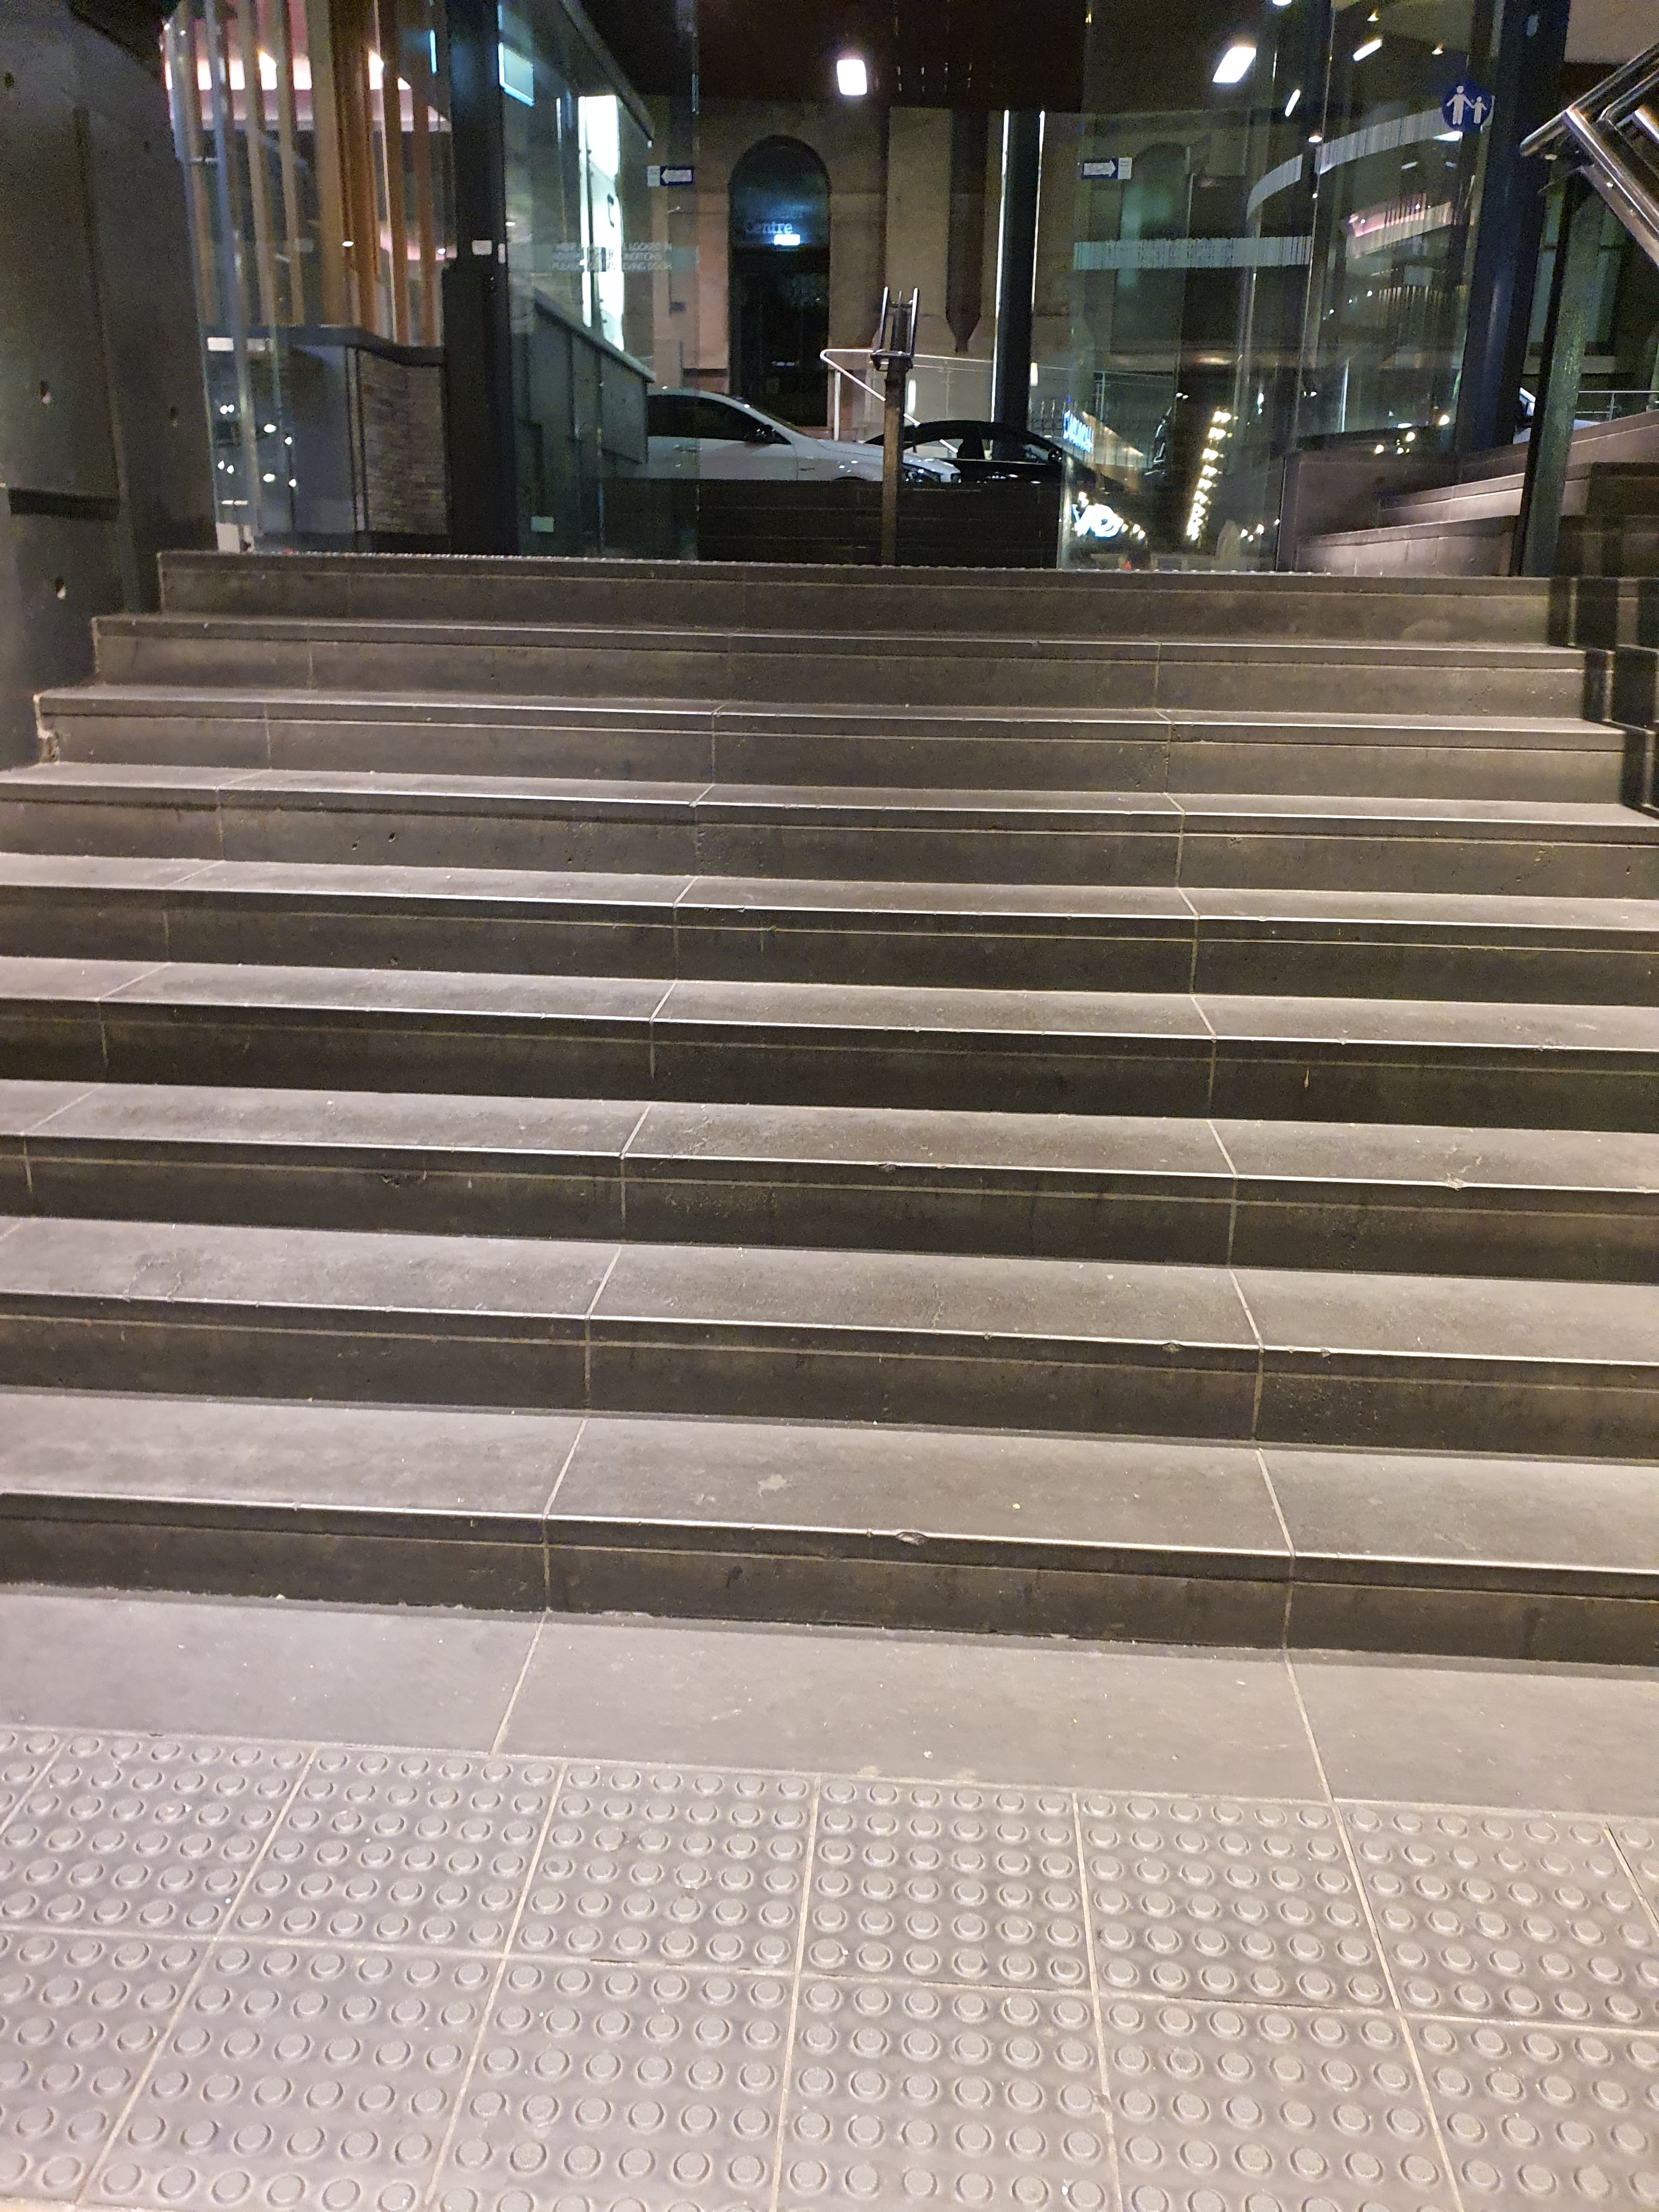upstairs: (0, 857, 1659, 1827)
